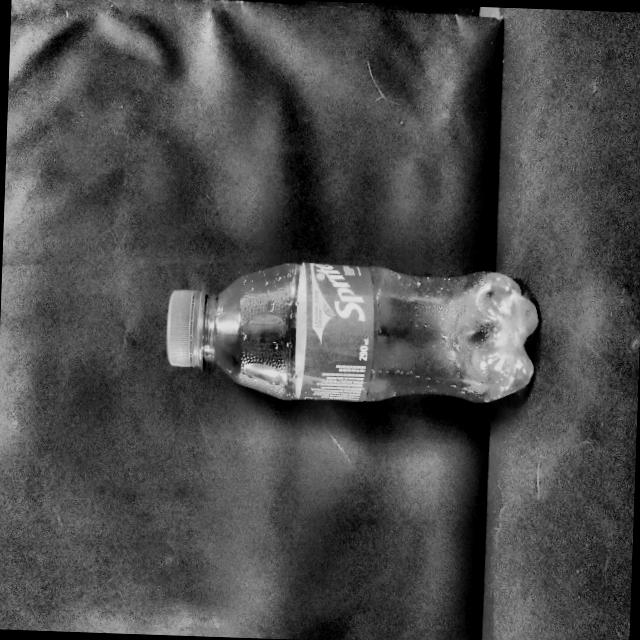Plastic-Bottle: (162, 252, 542, 412)
